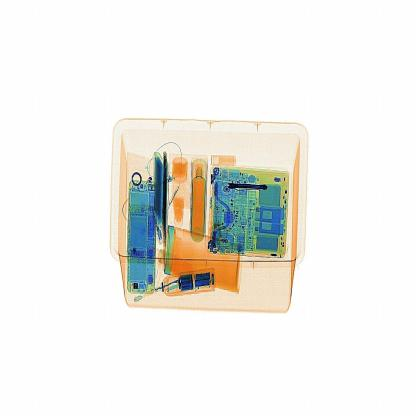knife: (221, 176, 277, 198)
